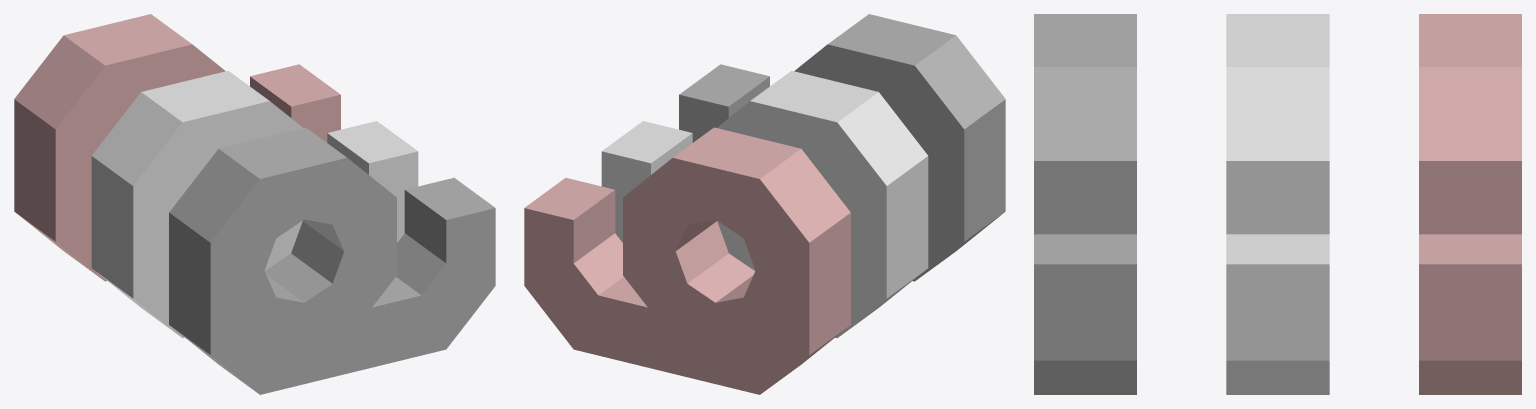
File: Tapes.FBX
3 renders of one model, left to right at view 1: azimuth 30°, elevation 25°; view 2: azimuth 150°, elevation 25°; view 3: azimuth 270°, elevation 25°, orthographic. The views are drawn at different scales.
Parts seen in each view (by area): view 1: Circle001, Circle002, Circle003; view 2: Circle003, Circle002, Circle001; view 3: Circle002, Circle001, Circle003.
Boxes of the visible parts, <box> form: Circle001: <box>169,127,495,394</box>; Circle002: <box>91,70,418,338</box>; Circle003: <box>14,14,340,281</box>; Circle003: <box>524,127,850,394</box>; Circle002: <box>601,70,928,338</box>; Circle001: <box>679,14,1005,281</box>; Circle002: <box>1226,14,1329,394</box>; Circle001: <box>1034,14,1136,394</box>; Circle003: <box>1419,14,1521,394</box>.
Bounding box in the file's own units: 115 × 83.41 × 138.
